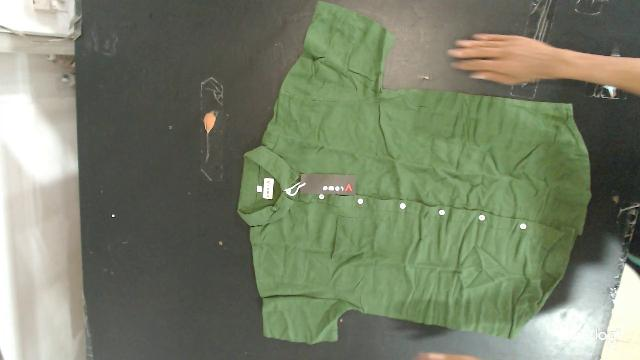new-garment: (238, 2, 590, 343)
